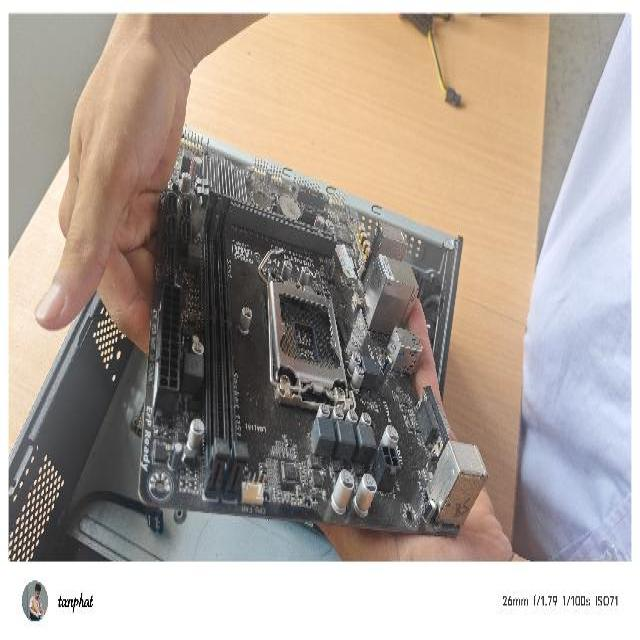Mainboard: (134, 152, 464, 535)
